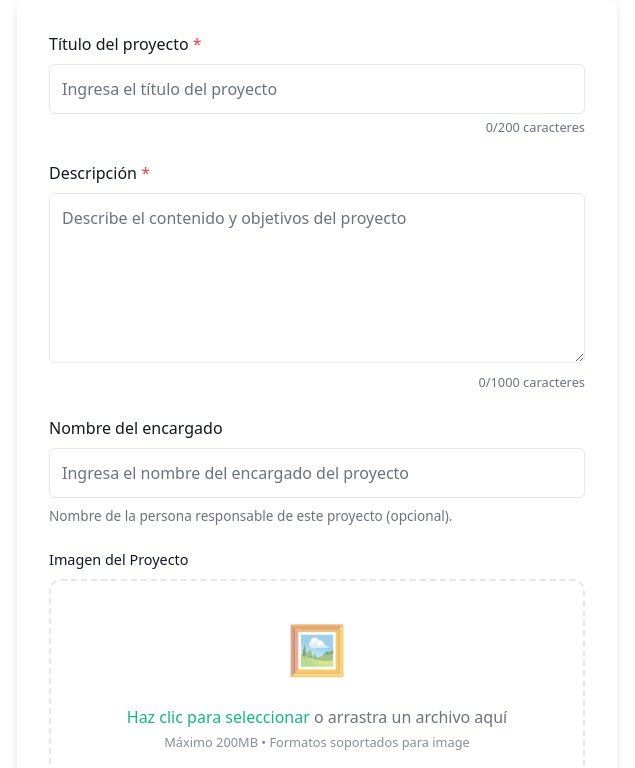
Test: MaterialApoyoForm › Character Counters › should update title character count as user types
This screenshot has width=635, height=768.
Type "Test" into the field labelled "Título del proyecto *" at coordinates (317, 89), box [49,64,585,114]
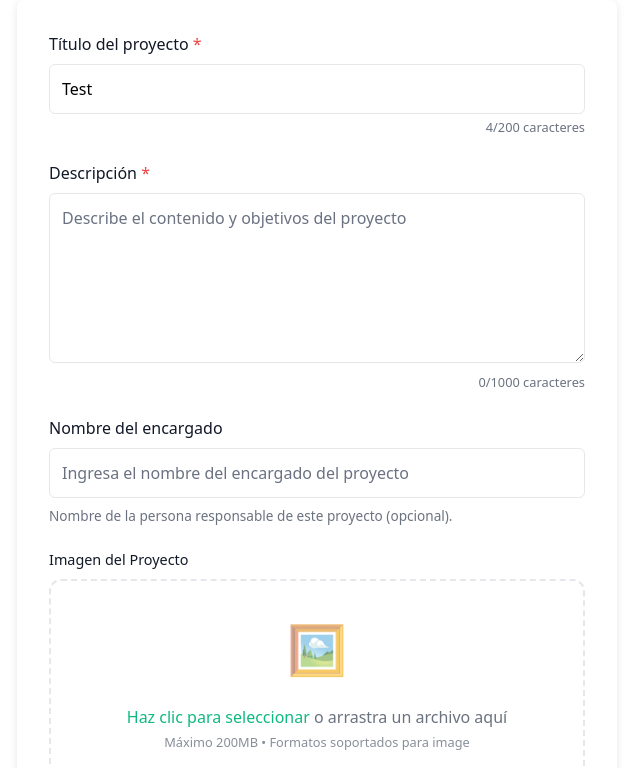
Expected: the text "4/200 caracteres" is shown, [486,118,585,136]
